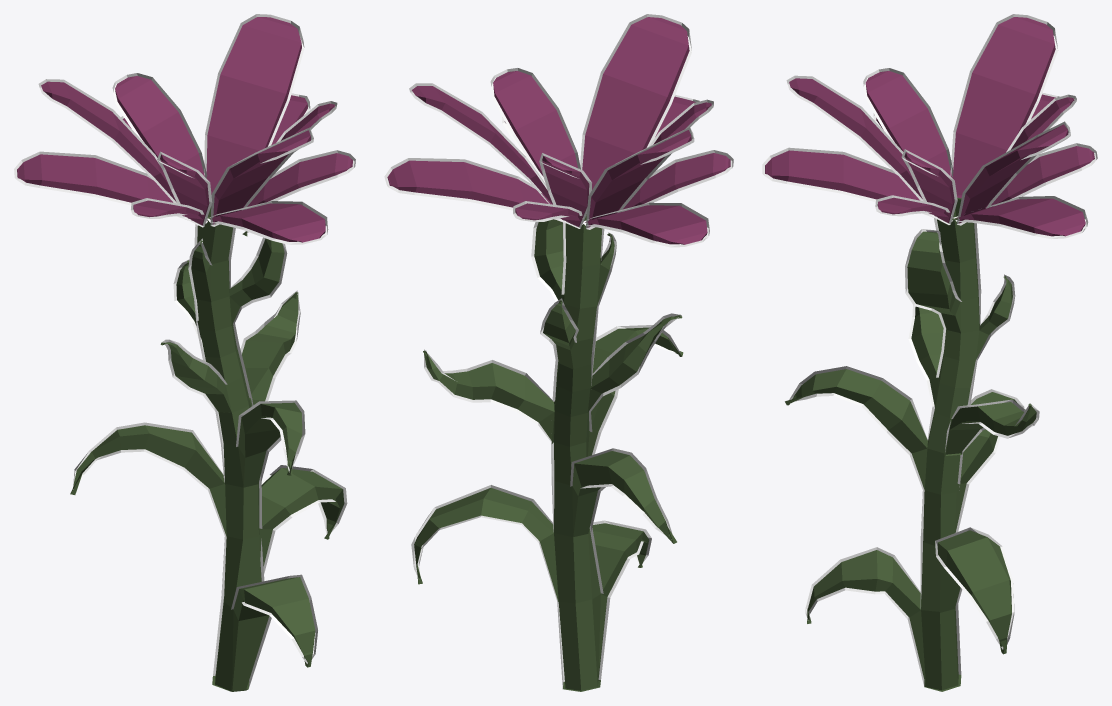
File: flower.glb
The picture shows the model from 3 angles, left to right: view 1: azimuth 30°, elevation 25°; view 2: azimuth 150°, elevation 25°; view 3: azimuth 270°, elevation 25°; orthographic projection. The views are drawn at different scales.
Visible parts, largest first — view 1: plant_1, flower_1; view 2: plant_1, flower_1; view 3: plant_1, flower_1.
Part boxes in pixels (bbox=[...]): plant_1: bbox=[70, 206, 347, 691]; flower_1: bbox=[14, 14, 355, 244]; plant_1: bbox=[411, 214, 683, 691]; flower_1: bbox=[384, 14, 733, 247]; plant_1: bbox=[785, 197, 1039, 691]; flower_1: bbox=[762, 14, 1097, 239].
Size of the model in its own units: 1.17 by 2.2 by 1.11.
